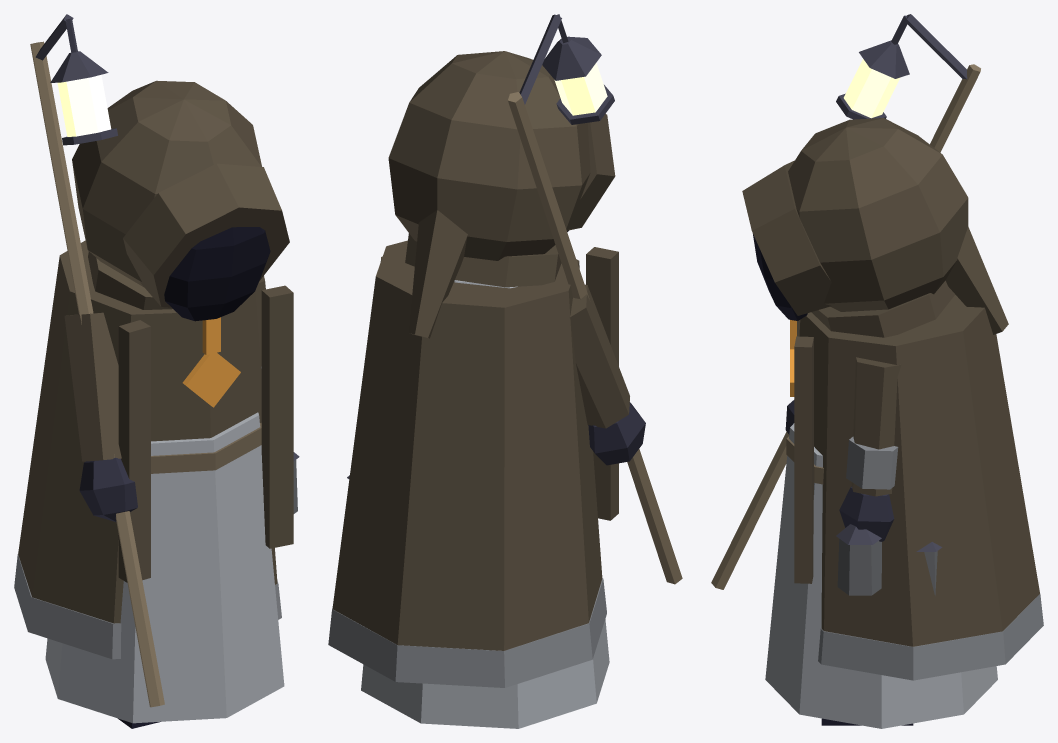
The model's file is lamp.glb.
3 renders of one model, left to right at view 1: azimuth 30°, elevation 25°; view 2: azimuth 150°, elevation 25°; view 3: azimuth 270°, elevation 25°, orthographic. The views are drawn at different scales.
Visible parts, largest first — view 1: Torso, Head, ArmR; view 2: Torso, Head, ArmR; view 3: Torso, Head, ArmR, ArmL.
Part boxes in pixels (x1,y1,x2,y2): Torso: [14, 240, 299, 723]; Head: [72, 80, 289, 321]; ArmR: [30, 14, 164, 707]; Torso: [328, 240, 618, 728]; Head: [388, 51, 615, 338]; ArmR: [508, 14, 682, 584]; Torso: [765, 294, 1043, 728]; Head: [742, 118, 1008, 337]; ArmR: [711, 14, 980, 589]; ArmL: [839, 357, 901, 541].
Bounding box in the file's own units: 0.74 × 2.02 × 0.9438.
